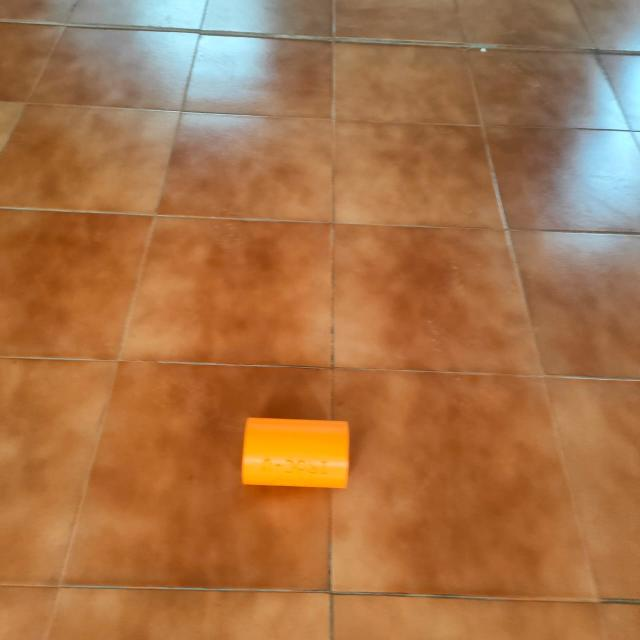Cylinder: (240, 416, 350, 490)
